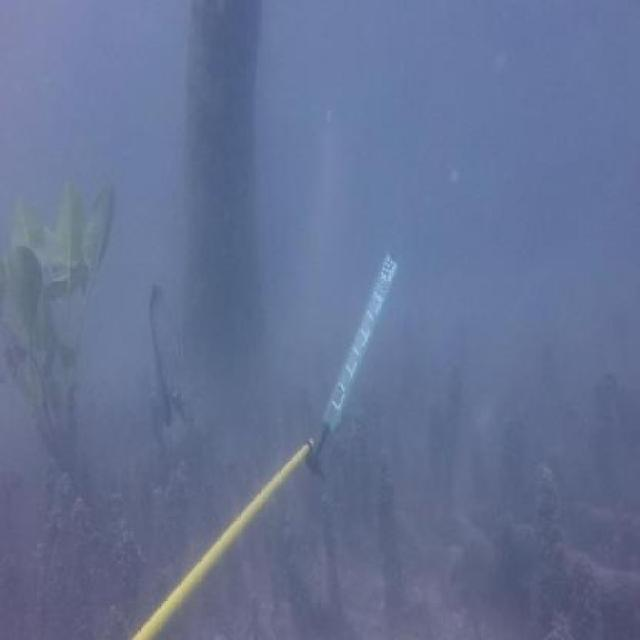acanthopagrus_palmaris: (148, 282, 194, 432)
